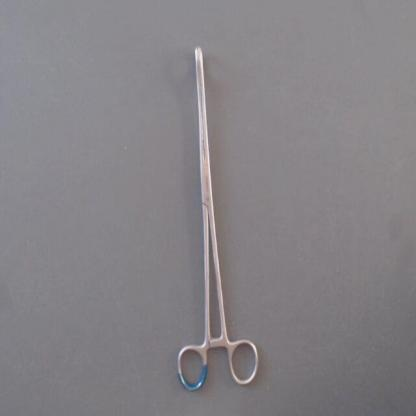Sponge Forceps: (169, 42, 265, 401)
